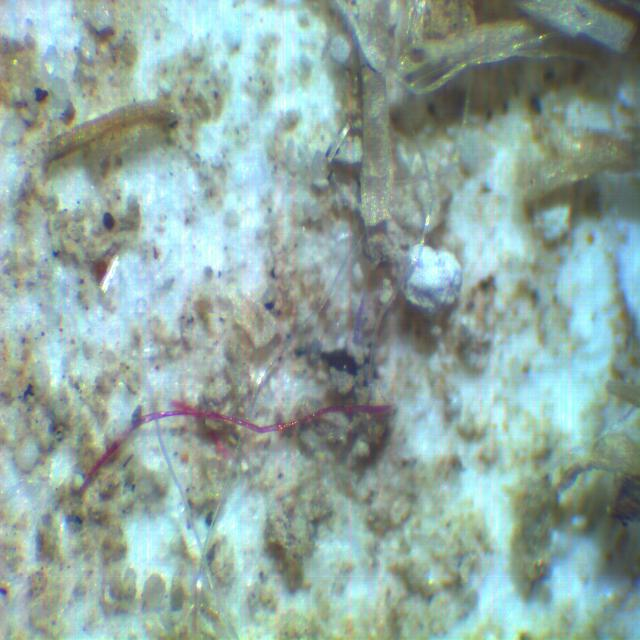microplastic: (195, 227, 368, 623), (309, 122, 433, 444), (80, 404, 393, 489), (153, 393, 238, 640)
